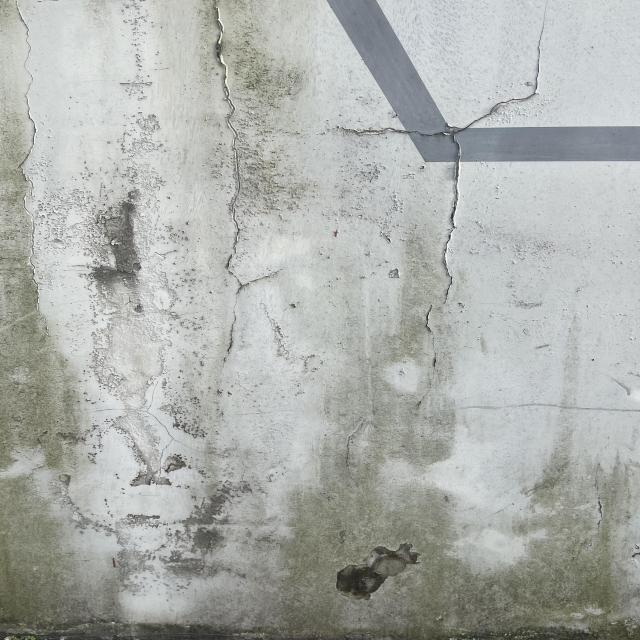crack: (325, 0, 561, 337), (194, 4, 256, 278), (13, 4, 47, 263)
damp: (85, 190, 155, 304)
spalling: (321, 555, 428, 602)
